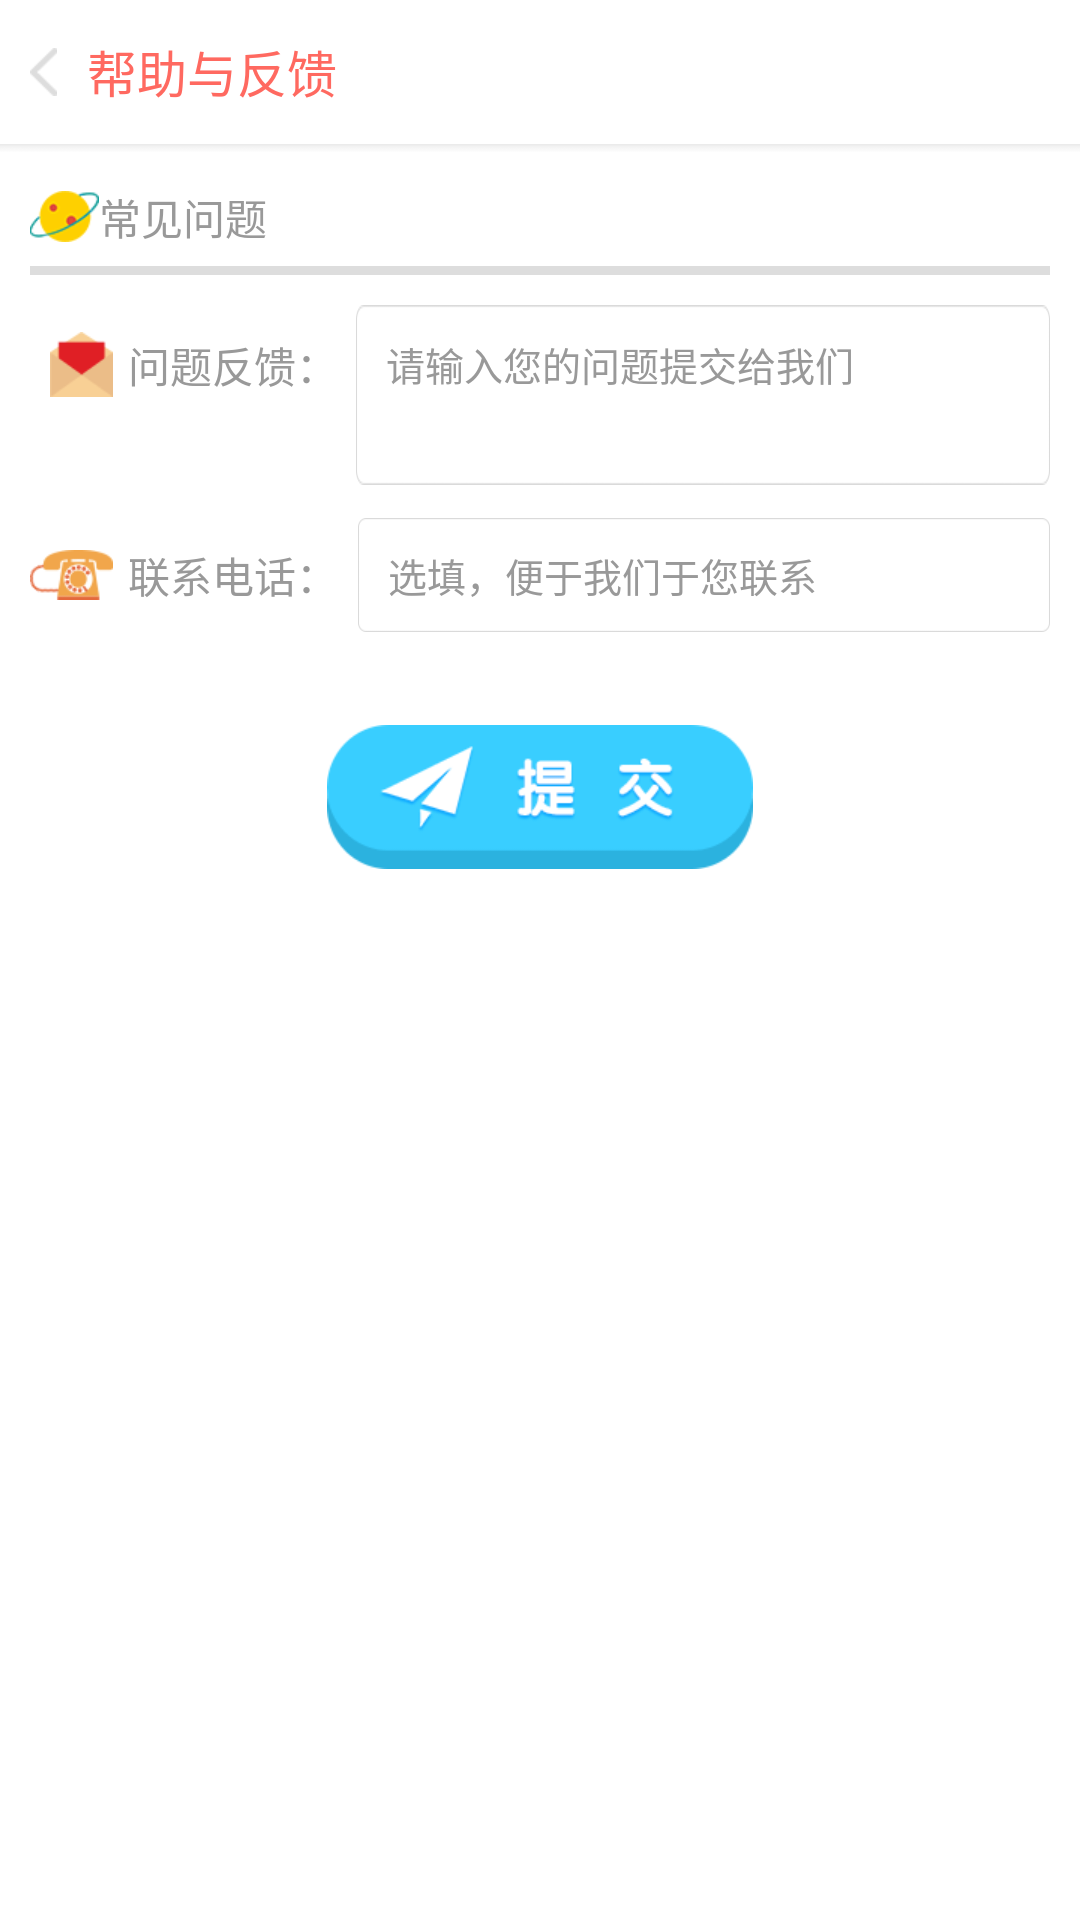

Named icons in this screenshot (1080x1920) and their bounding boxes, (x1, y1, x2, y2):
back: (30, 48, 57, 96)
